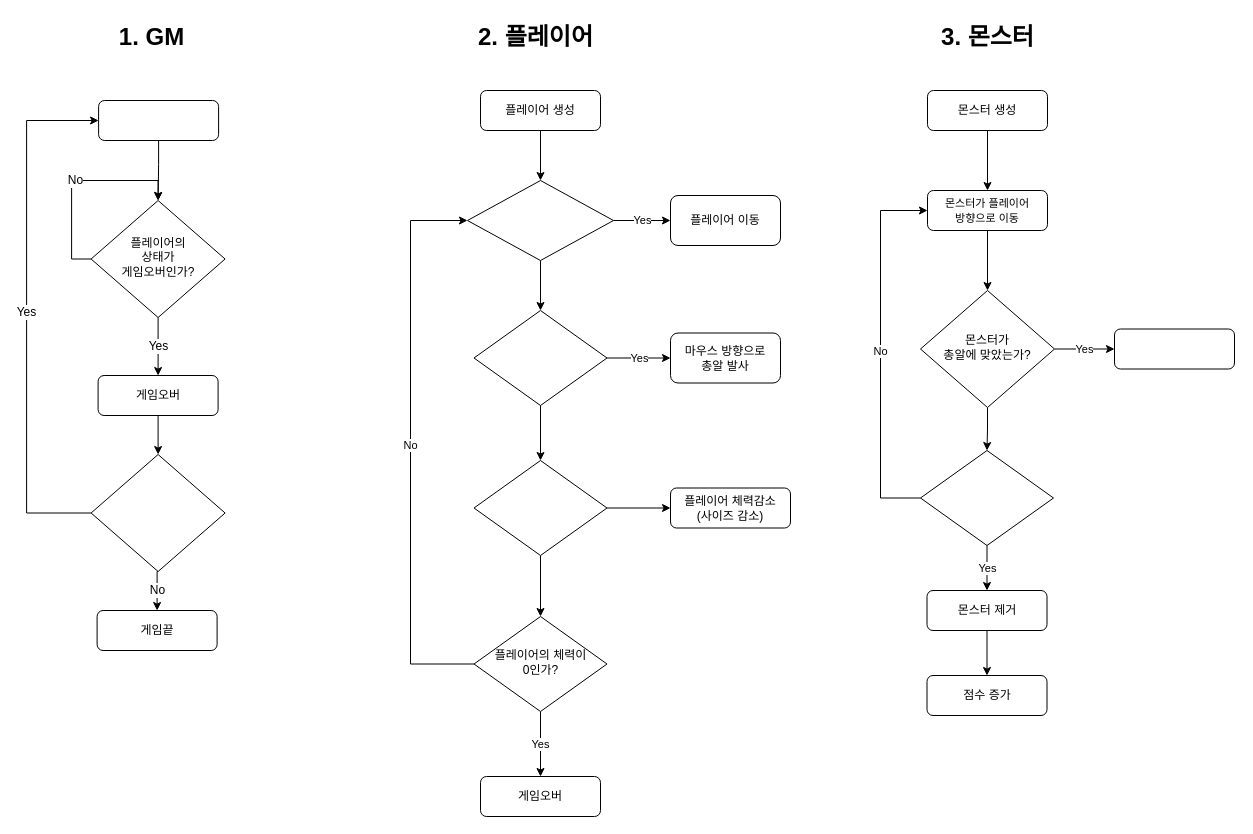
Some shapes in this 1253 by 834 pixel diagram are drawn without their labels. Here are the shapes that lost their labels. From the top down, the box of each, then its label:
(98, 100, 219, 140): 게임시작
(466, 180, 614, 260): 이동키를 눌렀는가?
(473, 310, 607, 406): 공격키를 눌렀는가?
(1114, 328, 1234, 369): 몬스터 체력감소 (사이즈 감소)
(90, 454, 225, 572): 재시작인가?
(473, 460, 607, 556): 플레이어가 몬스터에 닿았는가?
(920, 450, 1054, 546): 몬스터의 체력이 0인가?
